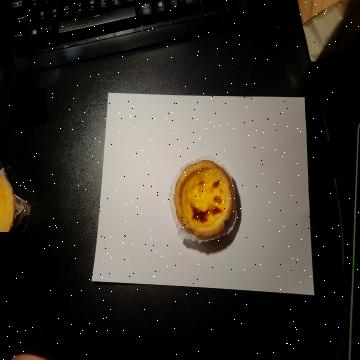EggTart: (173, 159, 235, 239)
